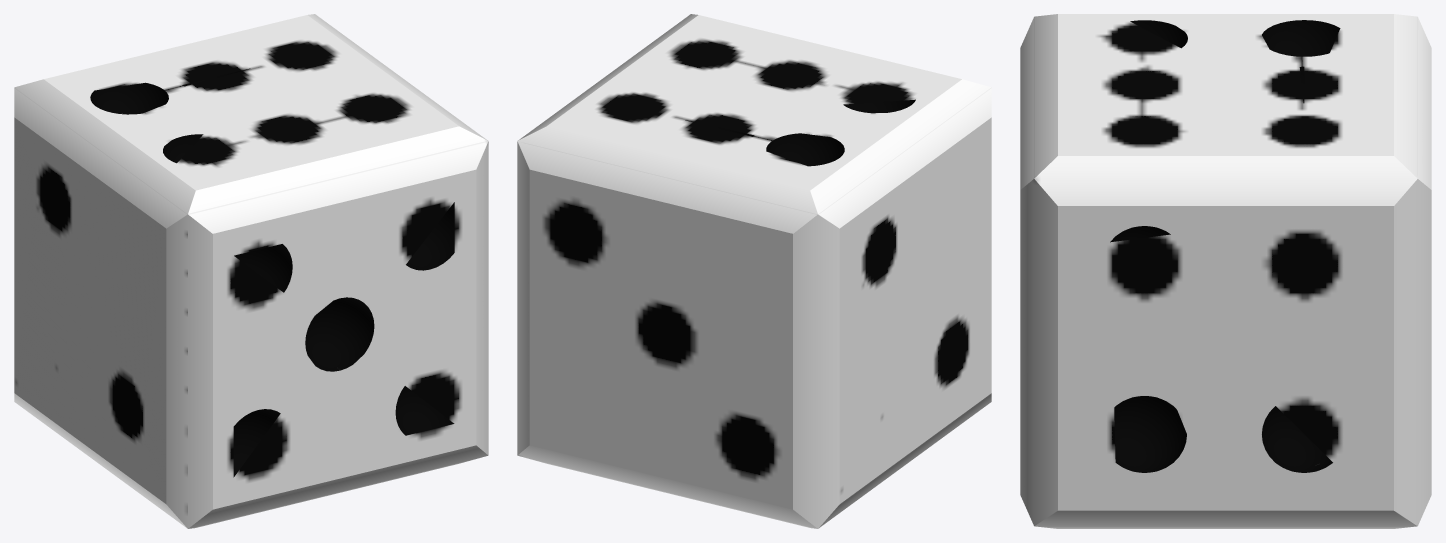
Rendered from DadoMallNopoly.fbx.
3 views of the same model, side by side, from view 1: azimuth 30°, elevation 25°; view 2: azimuth 150°, elevation 25°; view 3: azimuth 270°, elevation 25° (orthographic). The views are drawn at different scales.
Visible parts, largest first — view 1: Cube; view 2: Cube; view 3: Cube.
Part boxes in pixels (x1,y1,x2,y2): Cube: (14, 14, 488, 528); Cube: (517, 14, 991, 528); Cube: (1020, 14, 1431, 528).
Bounding box in the file's own units: 215 × 215 × 215.
